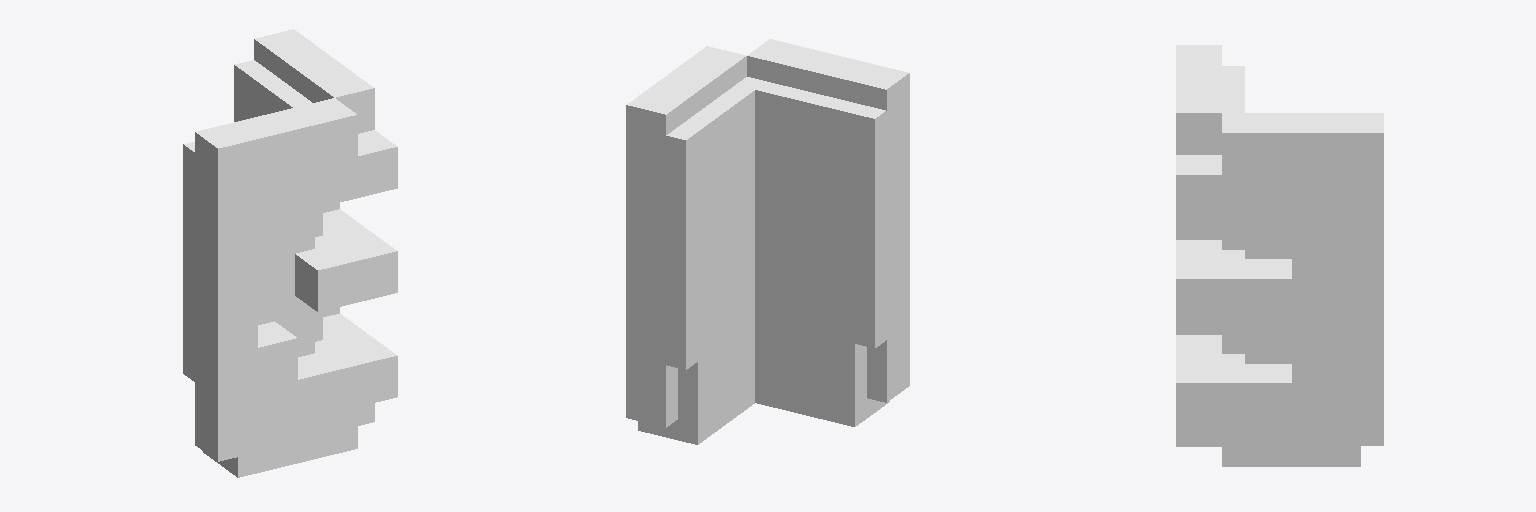
File: Skill-log.vox-7.obj
3 views of the same model, side by side, from view 1: azimuth 30°, elevation 25°; view 2: azimuth 150°, elevation 25°; view 3: azimuth 270°, elevation 25° (orthographic).
Parts seen in each view (by area): view 1: object 1; view 2: object 1; view 3: object 1.
Part boxes in pixels (left/top/right/bottom): object 1: left=183, top=29, right=397, bottom=477; object 1: left=626, top=39, right=909, bottom=444; object 1: left=1176, top=45, right=1383, bottom=466.
Size of the model in its own units: 0.9 by 1.6 by 0.9.